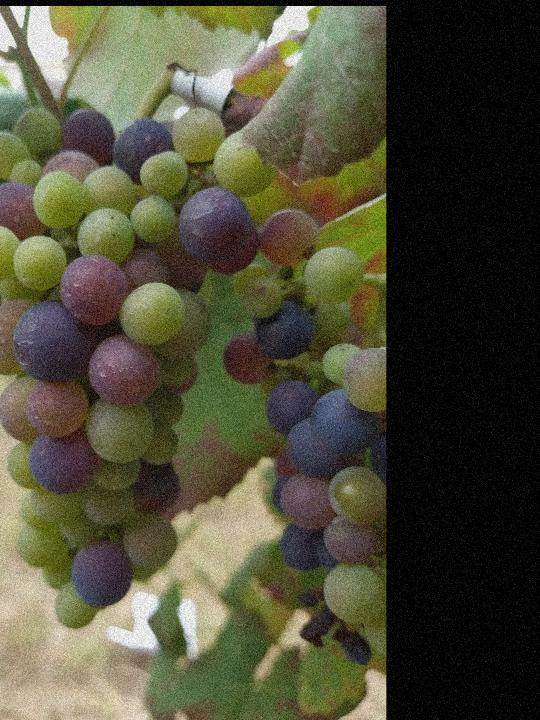grape: (0, 105, 280, 631)
